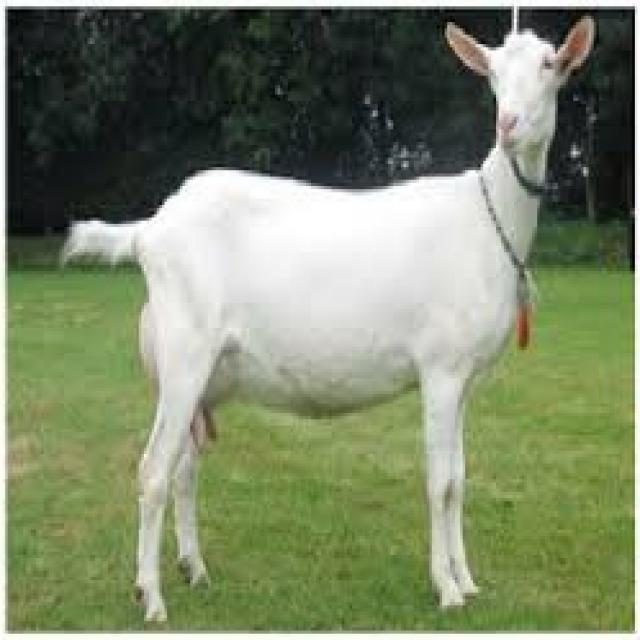goat: (64, 16, 591, 618)
